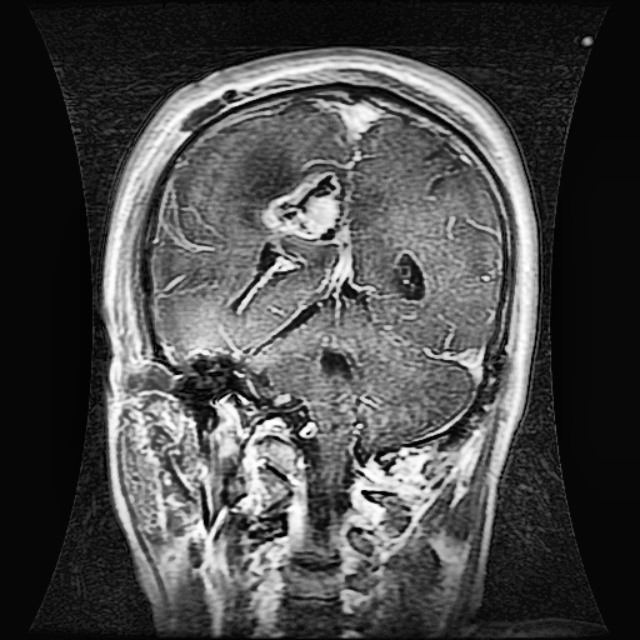Glioma: (260, 160, 359, 247)
